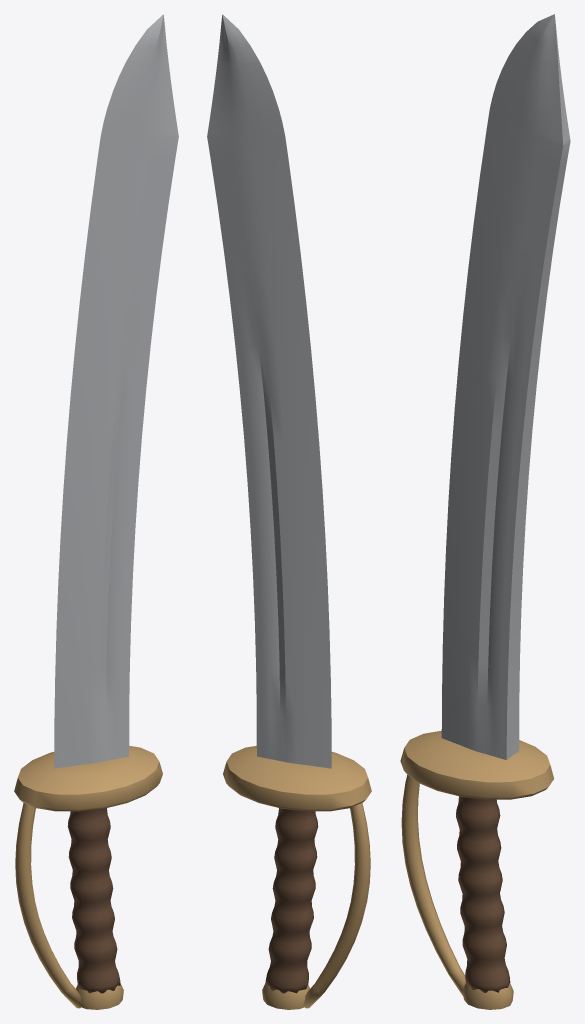
Rendered from cutlass.glb.
The picture shows the model from 3 angles, left to right: view 1: azimuth 30°, elevation 25°; view 2: azimuth 150°, elevation 25°; view 3: azimuth 330°, elevation 25°; orthographic projection. The views are drawn at different scales.
Visible parts, largest first — view 1: cutlass; view 2: cutlass; view 3: cutlass.
Part boxes in pixels (x1=…): cutlass: x1=14, y1=14, x2=178, y2=1009; cutlass: x1=207, y1=14, x2=371, y2=1009; cutlass: x1=400, y1=14, x2=570, y2=1009.
Bounding box in the file's own units: 0.3007 × 1.76 × 0.1844.
